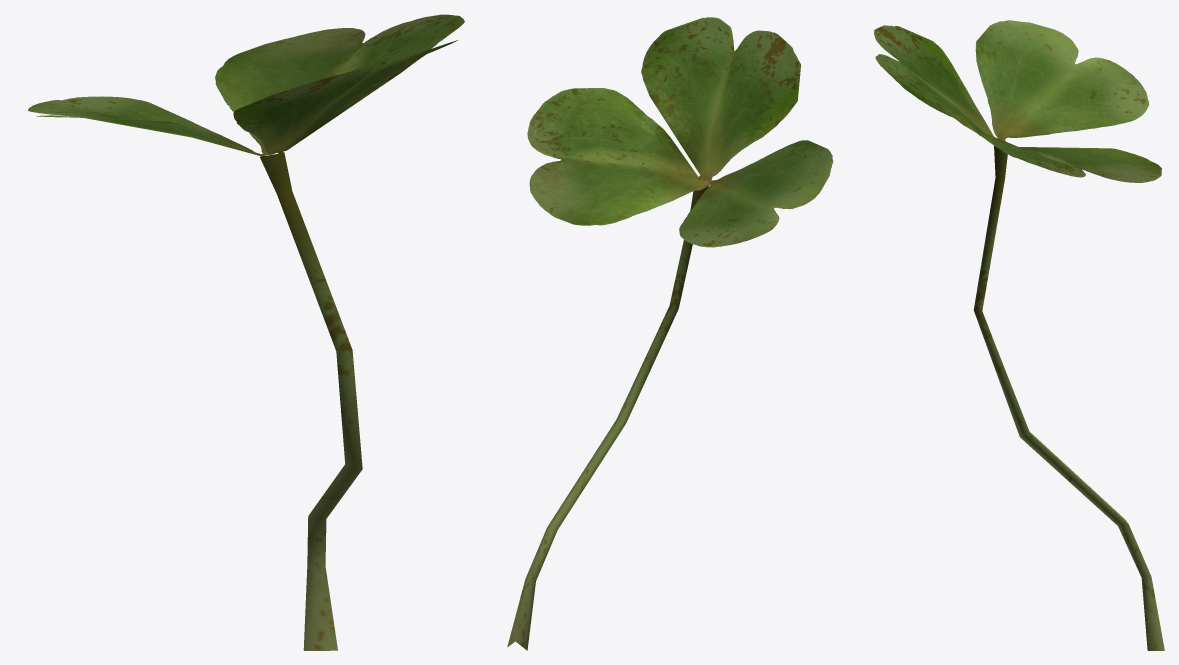
File: Sorrel_G.fbx
The picture shows the model from 3 angles, left to right: view 1: azimuth 30°, elevation 25°; view 2: azimuth 150°, elevation 25°; view 3: azimuth 270°, elevation 25°; orthographic projection. The views are drawn at different scales.
Visible parts, largest first — view 1: Sorrel_G; view 2: Sorrel_G; view 3: Sorrel_G.
Boxes of the visible parts, x1=… form: Sorrel_G: x1=28, y1=14, x2=464, y2=650; Sorrel_G: x1=507, y1=17, x2=833, y2=650; Sorrel_G: x1=874, y1=20, x2=1164, y2=650.
Bounding box in the file's own units: 0.0675 × 0.12 × 0.0572.
1 material, 1 textured.
